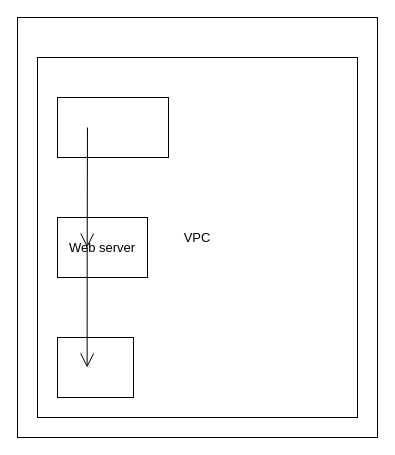
This 395x455 diagram has some shape labels left out. The box of each missing label's shape, as (x1, y1, x2, y2) in pixels:
Database: (56, 336, 134, 398)
Load balancer: (56, 96, 168, 158)
